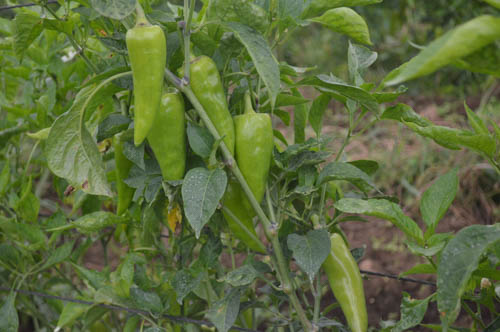ChiliPepper: (123, 26, 167, 150), (183, 60, 236, 150), (324, 233, 370, 328), (232, 113, 274, 201), (152, 93, 188, 182), (221, 184, 267, 252), (111, 138, 137, 213)
